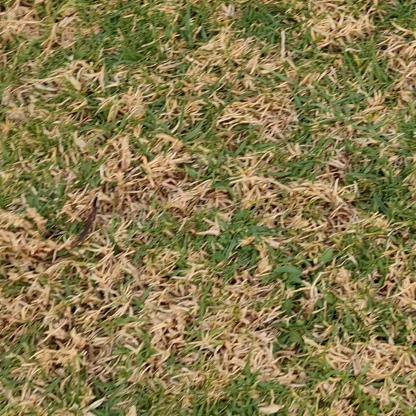Weeds: (276, 253, 345, 310)
